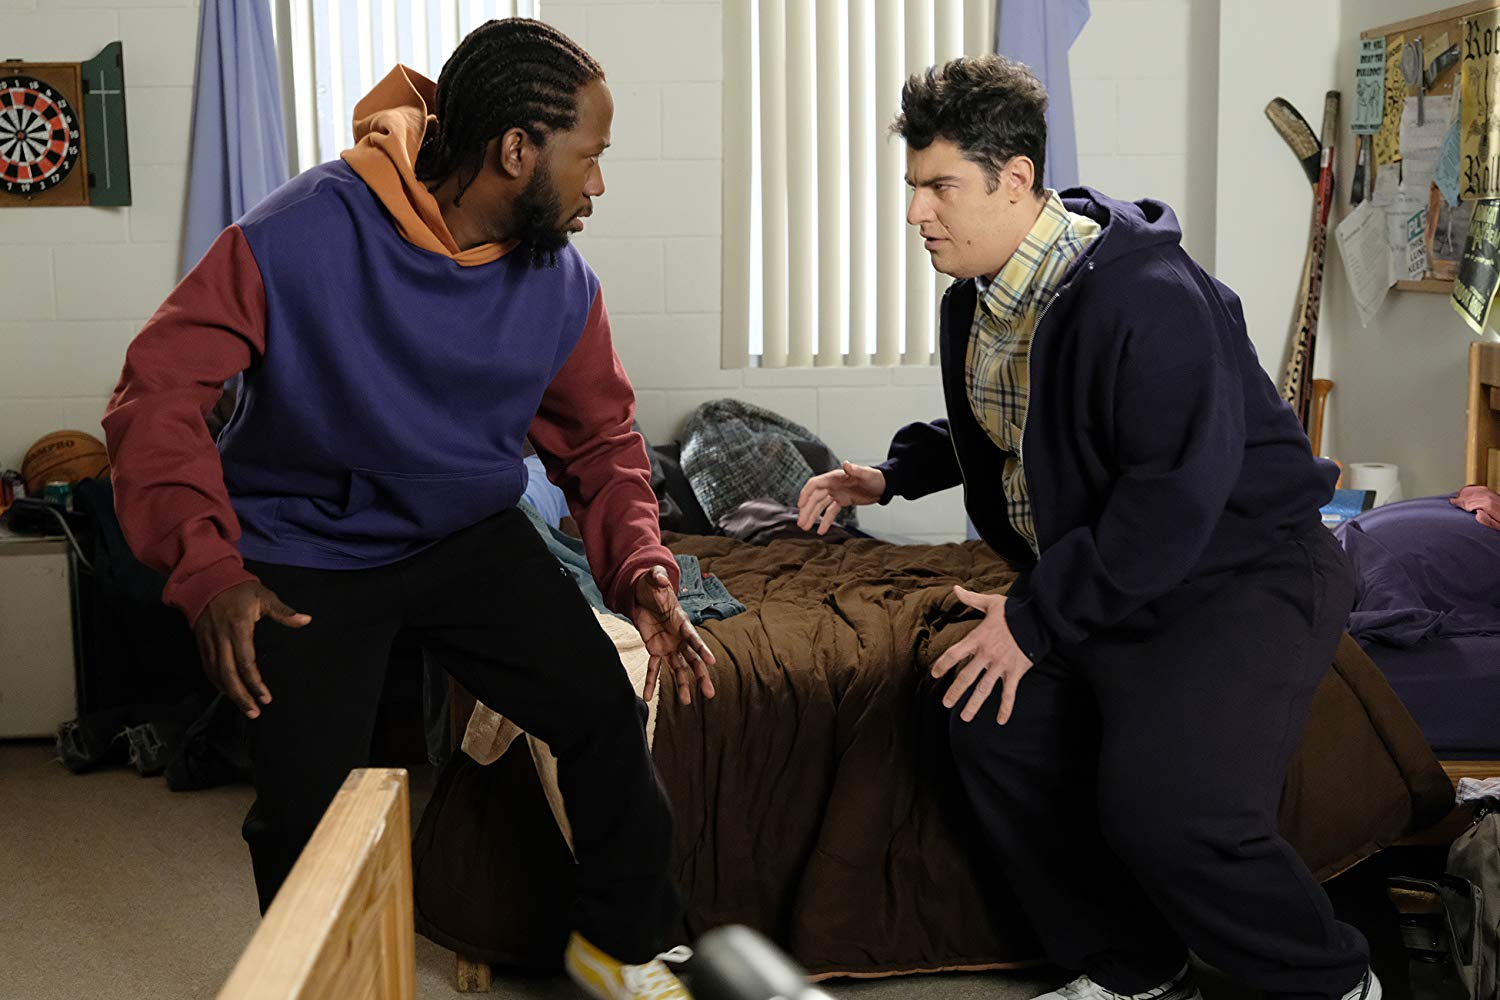person: (99, 32, 754, 985), (791, 27, 1404, 994)
